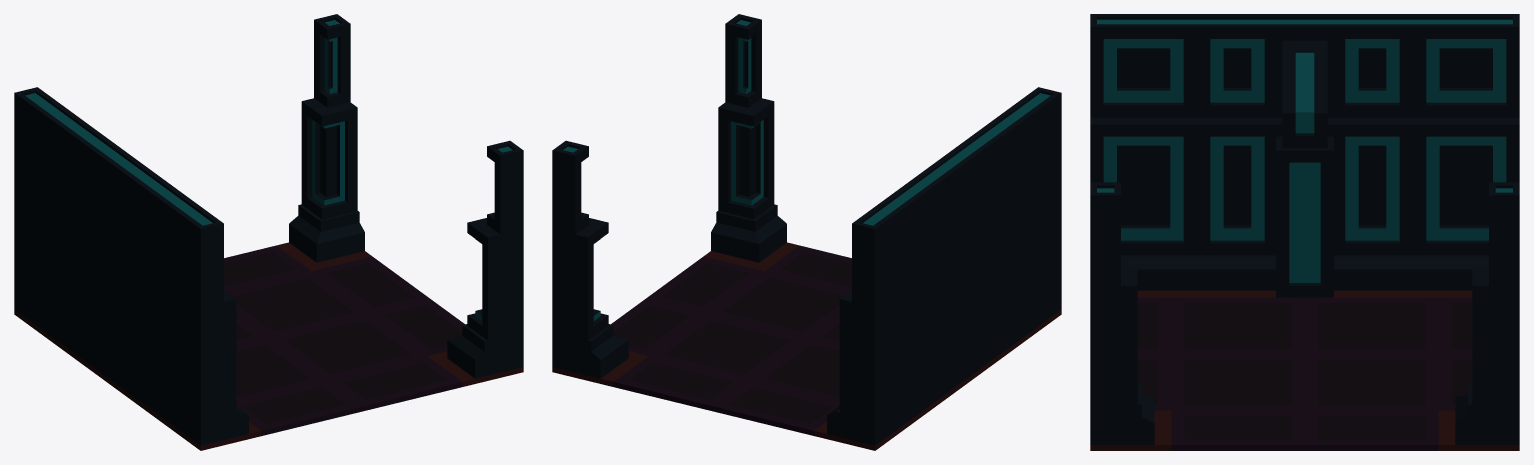
File: ThreeMaze.fbx
3 renders of one model, left to right at view 1: azimuth 30°, elevation 25°; view 2: azimuth 150°, elevation 25°; view 3: azimuth 270°, elevation 25°, orthographic. The views are drawn at different scales.
Visible parts, largest first — view 1: Three_way; view 2: Three_way; view 3: Three_way.
Boxes of the visible parts, x1,y1,x2,y2 form: Three_way: (14,14,523,450); Three_way: (552,14,1061,450); Three_way: (1090,14,1519,450).
Size of the model in its own units: 1116 by 733 by 1116.
